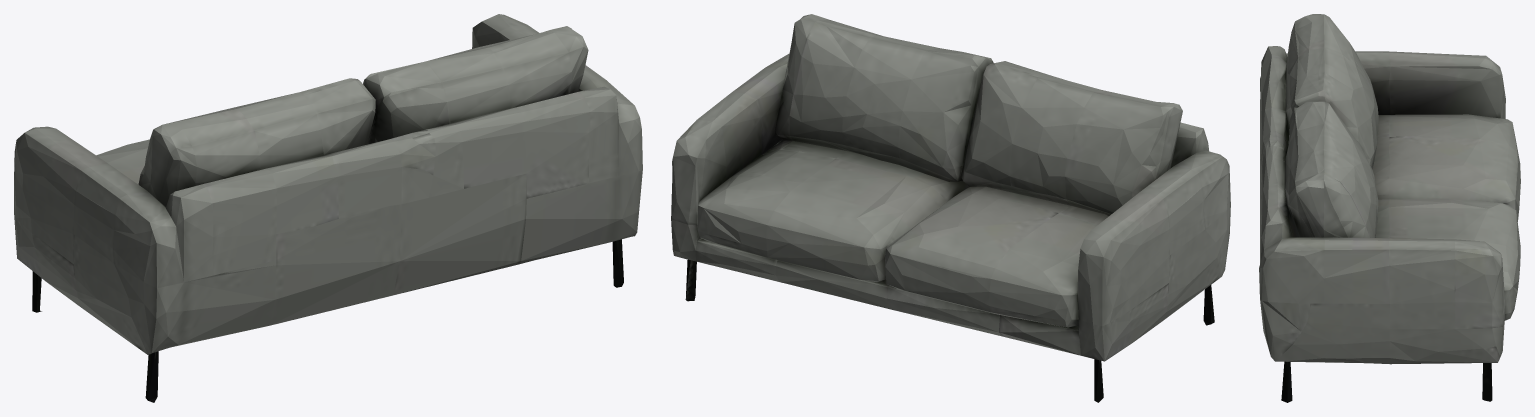
3 views of the same model, side by side, from view 1: azimuth 30°, elevation 25°; view 2: azimuth 150°, elevation 25°; view 3: azimuth 270°, elevation 25° (orthographic). The views are drawn at different scales.
Parts seen in each view (by area): view 1: geometry_0; view 2: geometry_0; view 3: geometry_0.
Part boxes in pixels (x1,y1,x2,y2): geometry_0: (14, 14, 642, 402); geometry_0: (671, 14, 1230, 402); geometry_0: (1259, 14, 1520, 402).
Bounding box in the file's own units: 1.77 × 0.859 × 0.9604.
1 material, 1 textured.
